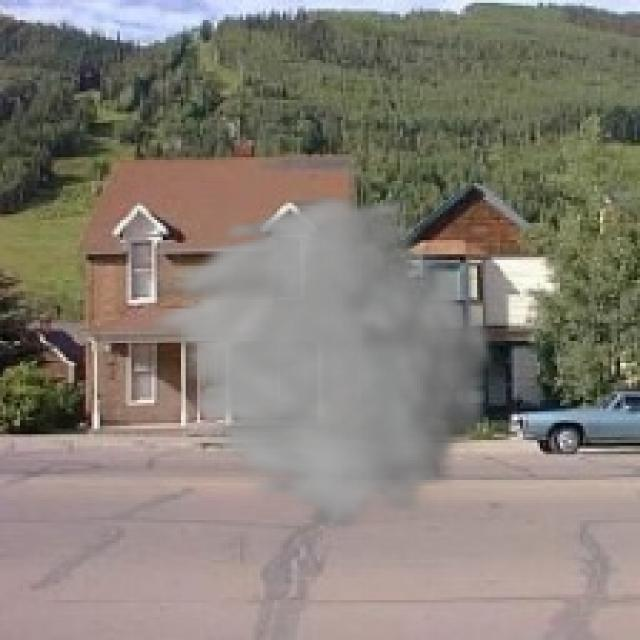smoke: (137, 192, 500, 534)
